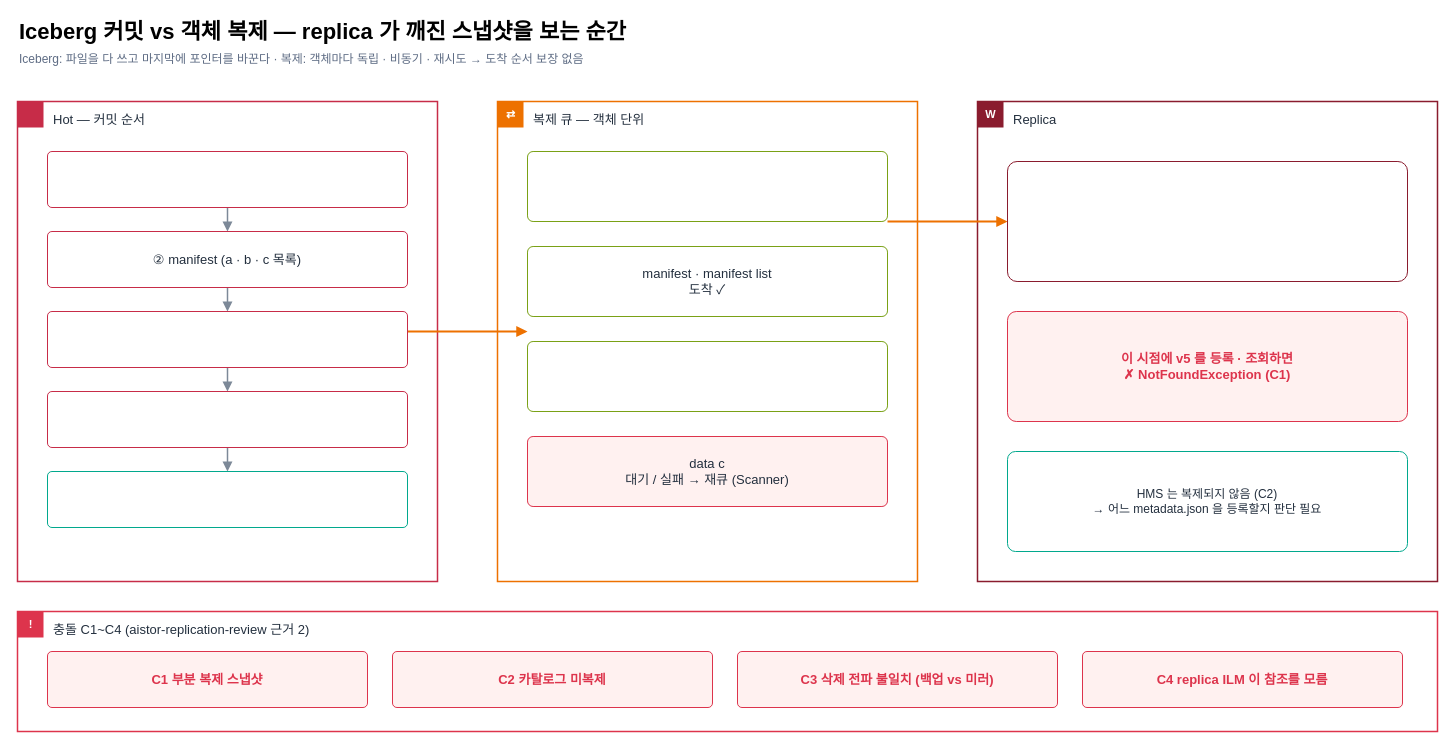
Image size: 1456x749. Some labels were removed from this diagram. The centre of each missing label's shape, as x and y in pixels:
data a · b 도착 ✓: the point at 707,376
metadata.json v5 · manifest 있음 data c 없음: the point at 1207,221
metadata.json v5 도착 ✓: the point at 707,186
S3: the point at 30,114
① data 파일 a · b · c: the point at 227,179
③ manifest list (snap): the point at 227,339
④ metadata.json v5: the point at 227,419
⑤ HMS 포인터 → v5 (커밋): the point at 227,499
